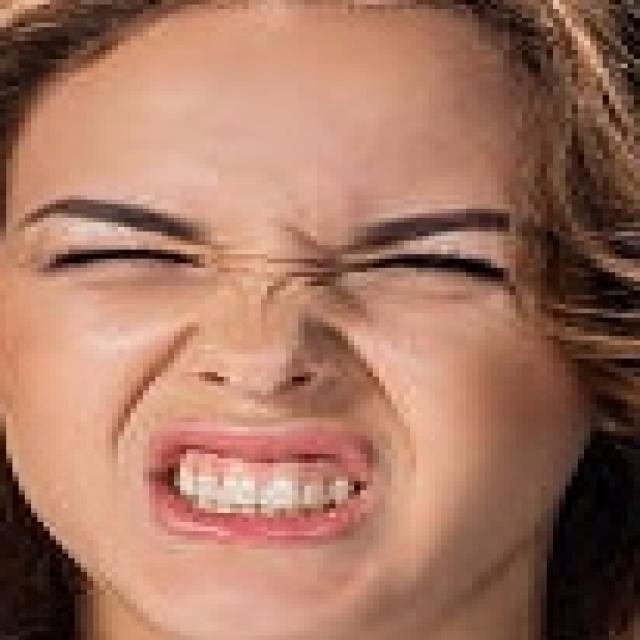Anxiety: (6, 0, 593, 635)
